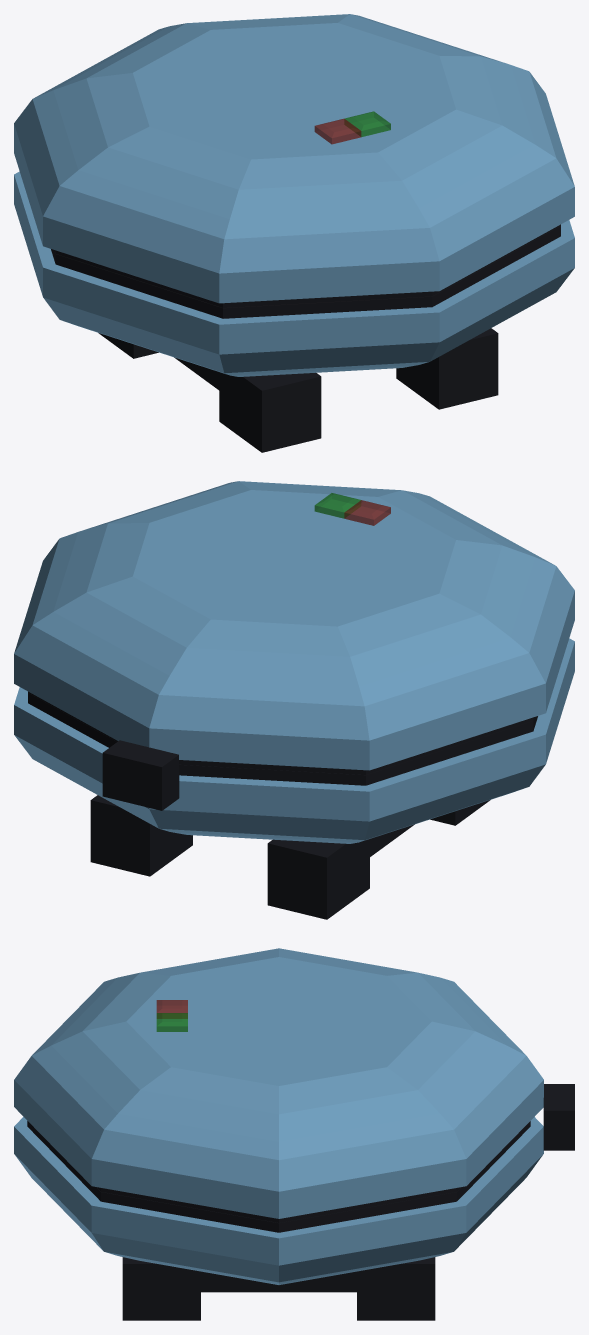
Rendered from wafflera.fbx.
3 renders of one model, top to bottom at view 1: azimuth 30°, elevation 25°; view 2: azimuth 150°, elevation 25°; view 3: azimuth 270°, elevation 25°, orthographic. The views are drawn at different scales.
Parts seen in each view (by area): view 1: wafflera tapa, wafflera base; view 2: wafflera tapa, wafflera base; view 3: wafflera tapa, wafflera base.
Boxes of the visible parts, bbox=[...] form: wafflera tapa: bbox=[14, 14, 574, 307]; wafflera base: bbox=[14, 171, 574, 452]; wafflera tapa: bbox=[14, 481, 574, 797]; wafflera base: bbox=[14, 638, 574, 919]; wafflera tapa: bbox=[14, 948, 574, 1222]; wafflera base: bbox=[14, 1117, 574, 1320].
Bounding box in the file's own units: 16.96 × 17.95 × 9.07.
